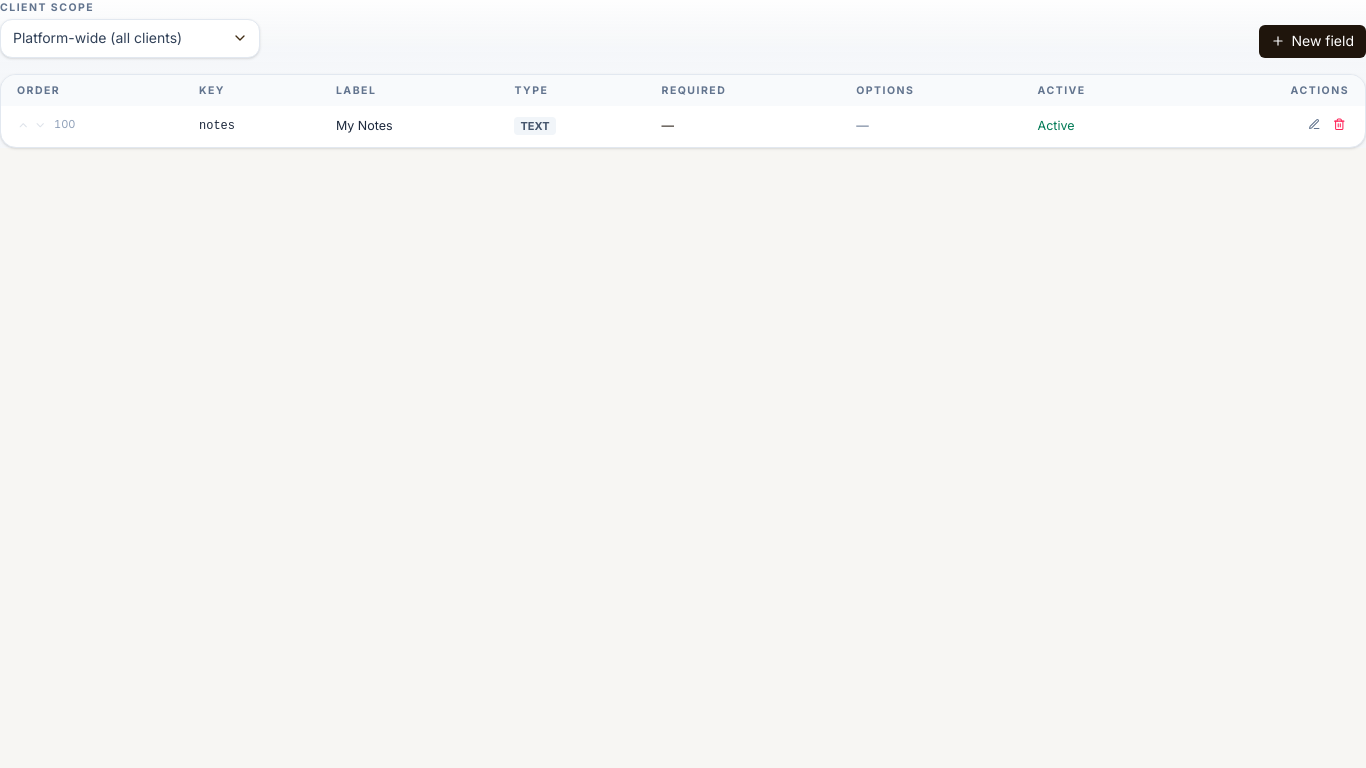
Scenario: CustomFieldsPage — open editor › clicking row Edit opens editor modal in Edit mode with the row values
Expected: the text "notes" is shown, [183,106,320,147]
Click the button titled "Edit" at {"x": 1314, "y": 124}, box [1304,114,1324,134]
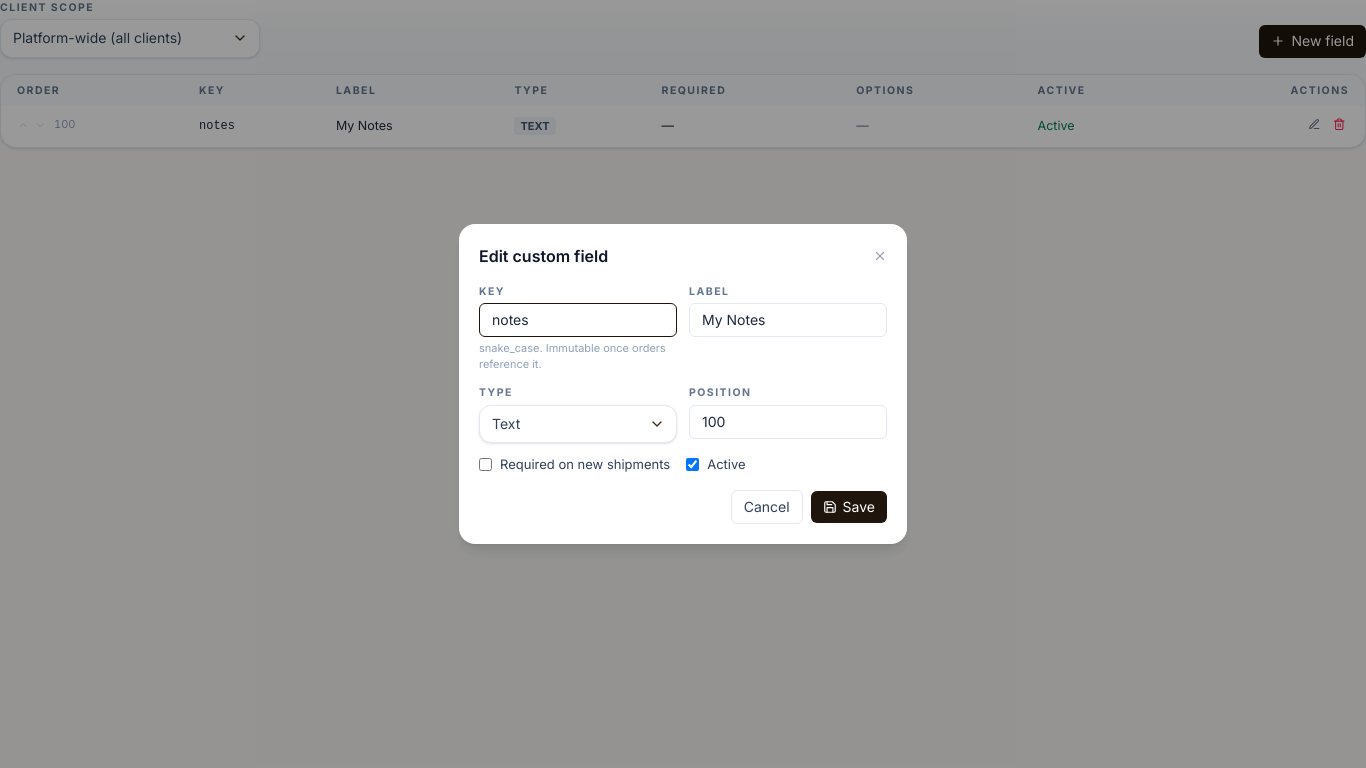
Expected: the heading "Edit custom field" is shown, [479,244,608,268]
Expected: the field showing "notes" is shown, [479,303,677,338]
Expected: the field showing "My Notes" is shown, [689,303,887,338]
